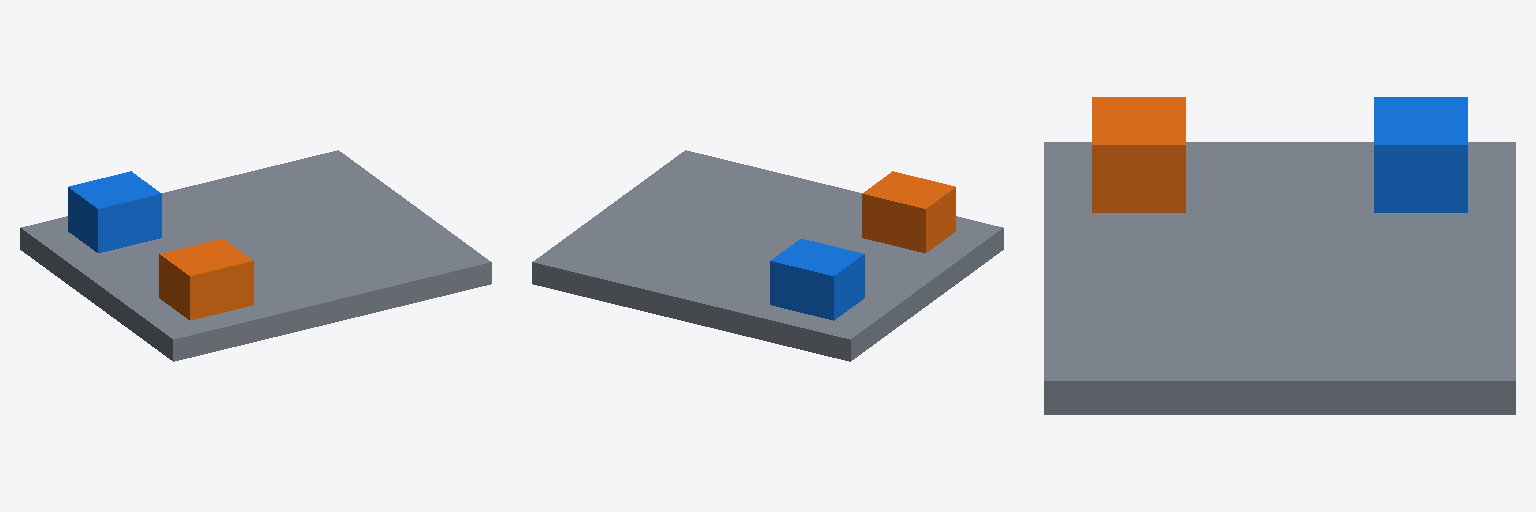
URDF robot description (dual_slide):
<?xml version="1.0"?>
<robot name="dual_slide">
  <link name="base">
    <visual name="base_visual_0">
      <origin xyz="0 0 0" rpy="0 0 0"/>
      <geometry><mesh filename="meshes/base.stl" scale="0.001 0.001 0.001"/></geometry>
      <material name="base_material_0"><color rgba="0.55 0.58 0.62 1"/></material>
    </visual>
  </link>
  <link name="arm0_link">
    <visual name="arm0_link_visual_0">
      <origin xyz="0 0 0" rpy="0 0 0"/>
      <geometry><mesh filename="meshes/slider.stl" scale="0.001 0.001 0.001"/></geometry>
      <material name="arm0_link_material_0"><color rgba="0.95 0.48 0.12 1"/></material>
    </visual>
  </link>
  <link name="arm1_link">
    <visual name="arm1_link_visual_0">
      <origin xyz="0 0 0" rpy="0 0 0"/>
      <geometry><mesh filename="meshes/slider.stl" scale="0.001 0.001 0.001"/></geometry>
      <material name="arm1_link_material_0"><color rgba="0.12 0.52 0.95 1"/></material>
    </visual>
  </link>
  <joint name="slide0" type="prismatic">
    <parent link="base"/>
    <child link="arm0_link"/>
    <origin xyz="-0.18 -0.15 0.06" rpy="0 0 0"/>
    <axis xyz="1 0 0"/>
    <limit lower="-0.15" upper="0.15" effort="0" velocity="0.1"/>
  </joint>
  <joint name="slide1" type="prismatic">
    <parent link="base"/>
    <child link="arm1_link"/>
    <origin xyz="-0.18 0.15 0.06" rpy="0 0 0"/>
    <axis xyz="1 0 0"/>
    <limit lower="-0.15" upper="0.15" effort="0" velocity="0.1"/>
  </joint>
  <link name="flange0"/>
  <joint name="flange0_fixed_joint" type="fixed">
    <parent link="arm0_link"/>
    <child link="flange0"/>
    <origin xyz="0.08 0 0" rpy="0 0 0"/>
  </joint>
  <link name="flange1"/>
  <joint name="flange1_fixed_joint" type="fixed">
    <parent link="arm1_link"/>
    <child link="flange1"/>
    <origin xyz="0.08 0 0" rpy="0 0 0"/>
  </joint>
</robot>

--- What the picture shows (computed from the rendered views, not written in the file) ---
Views: 3 orthographic renders of the robot side by side, from view 1: azimuth 30°, elevation 25°; view 2: azimuth 150°, elevation 25°; view 3: azimuth 270°, elevation 25°.
Robot: dual_slide — 5 links, 4 joints (2 prismatic, 2 fixed); root link base; default pose: all joints at 0.
Visible links, largest first — view 1: base, arm0_link, arm1_link; view 2: base, arm1_link, arm0_link; view 3: base, arm0_link, arm1_link.
Boxes of the visible links, left/top/right/bottom form: base: left=20, top=150, right=491, bottom=361; arm0_link: left=159, top=239, right=253, bottom=320; arm1_link: left=68, top=171, right=161, bottom=252; base: left=532, top=150, right=1003, bottom=361; arm1_link: left=770, top=239, right=864, bottom=320; arm0_link: left=862, top=171, right=955, bottom=252; base: left=1044, top=142, right=1515, bottom=414; arm0_link: left=1092, top=97, right=1185, bottom=212; arm1_link: left=1374, top=97, right=1467, bottom=212.
Size in the robot's own frame: 0.6 by 0.5 by 0.12 metres.
Meshes: 2 distinct files referenced, 3 mesh visuals loaded (2 ASCII STL).
